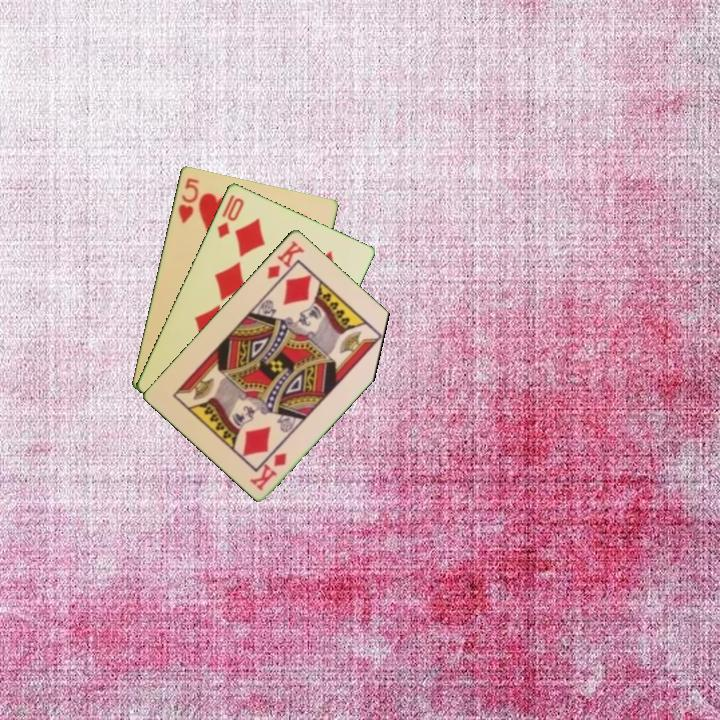10d: (213, 194, 247, 241)
5h: (174, 174, 202, 226)
Kd: (264, 237, 307, 282), (247, 449, 290, 493)
